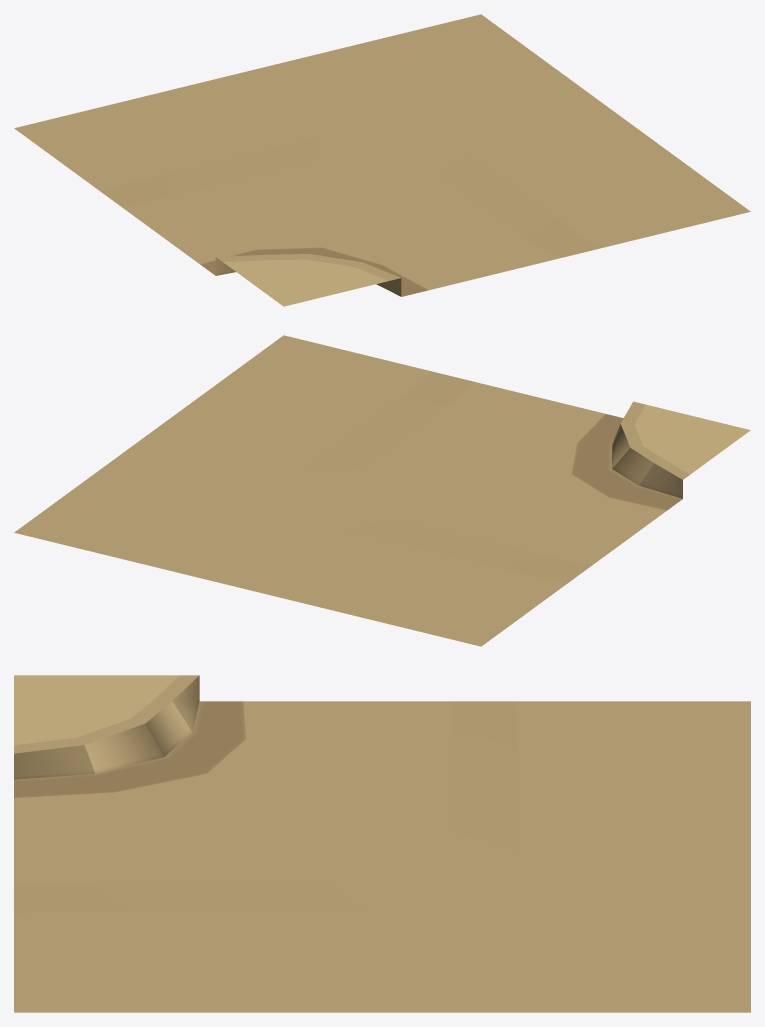
File: SM_Env_Road_Dirt_Corner_01.fbx
3 views of the same model, one above another, from view 1: azimuth 30°, elevation 25°; view 2: azimuth 150°, elevation 25°; view 3: azimuth 270°, elevation 25° (orthographic). The views are drawn at different scales.
Parts seen in each view (by area): view 1: SM_Env_Road_Dirt_Corner_01; view 2: SM_Env_Road_Dirt_Corner_01; view 3: SM_Env_Road_Dirt_Corner_01.
Boxes of the visible parts, left/top/right/bottom form: SM_Env_Road_Dirt_Corner_01: left=14, top=14, right=750, bottom=306; SM_Env_Road_Dirt_Corner_01: left=14, top=335, right=750, bottom=646; SM_Env_Road_Dirt_Corner_01: left=14, top=675, right=750, bottom=1012.
Size of the model in its own units: 5 by 0.1948 by 5.
